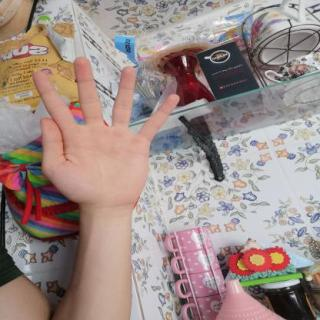SHEEN: (22, 53, 185, 215)
